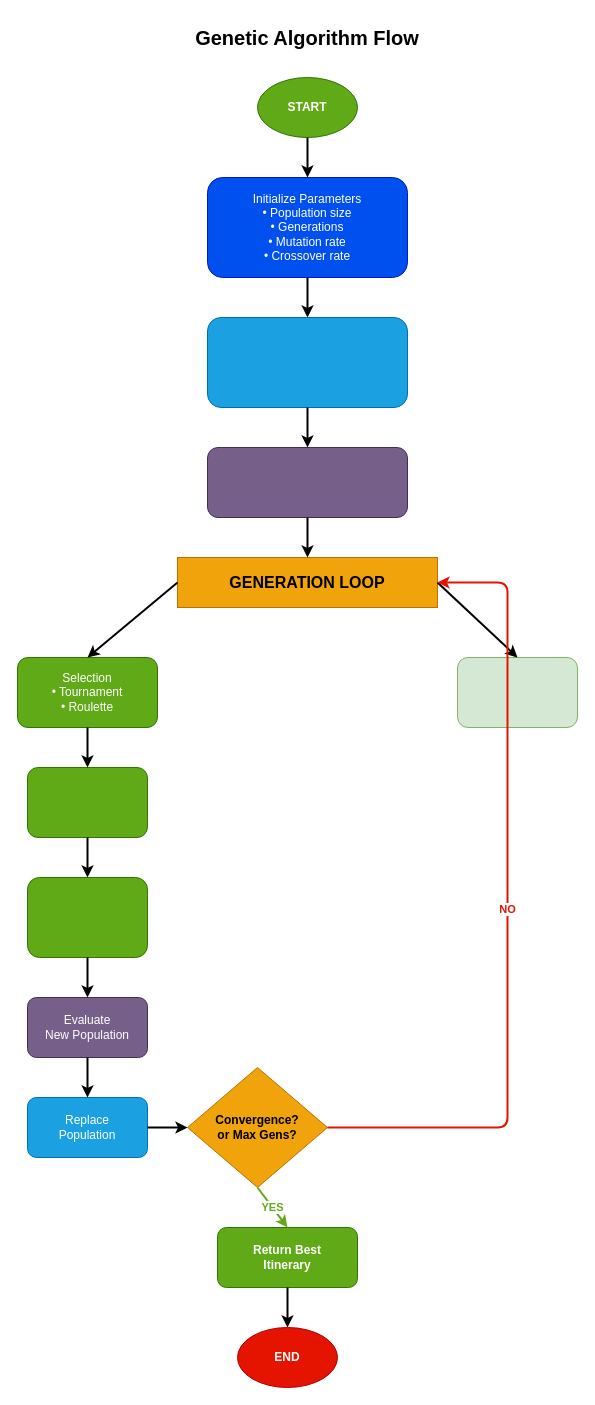
Some shapes in this 595 by 1405 pixel diagram are drawn without their labels. The box of each missing label's shape, as (x1, y1, x2, y2) in pixels:
Crossover • Order (OX) • PMX: (26, 766, 148, 838)
Evaluate Fitness • Calculate scores • Check constraints: (206, 446, 408, 518)
Generate Initial Population • Random chromosomes • Greedy seeding: (206, 316, 408, 408)
Mutation • Swap • Insert • Inversion: (26, 876, 148, 958)
Track Best Solution: (456, 656, 578, 728)
